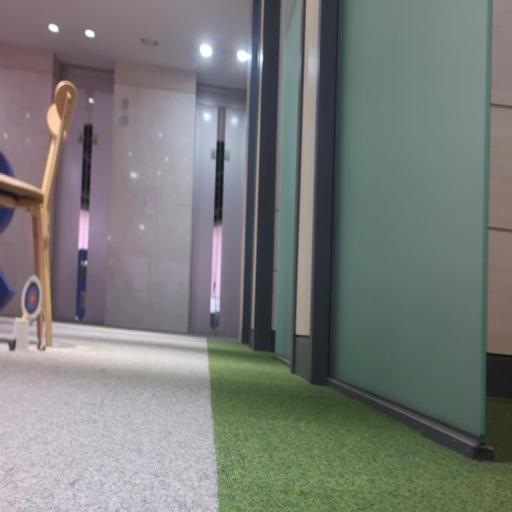target: (22, 275, 41, 319)
